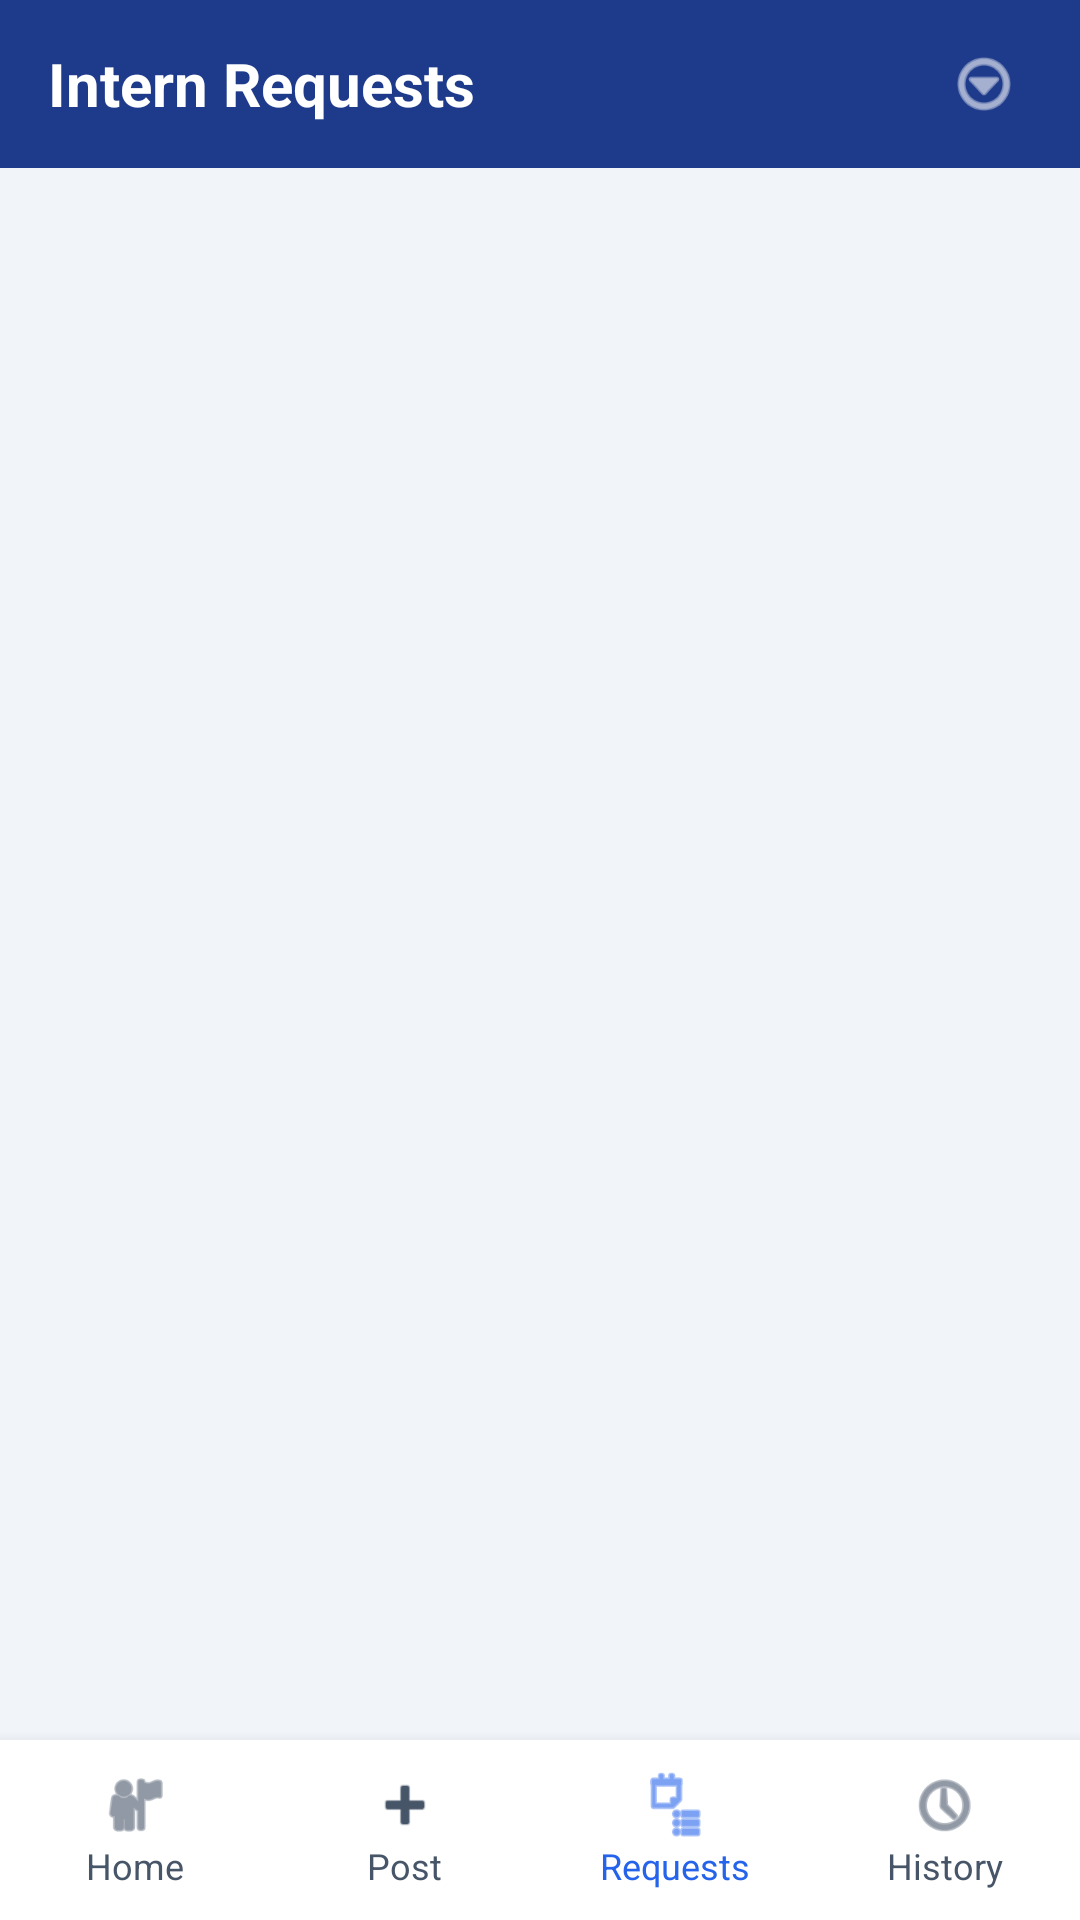

Named icons in this screenshot (1080 x 1920) and their centers, (x,y):
add: (405,1805)
agenda: (675,1805)
more: (984,84)
myplaces: (136,1805)
